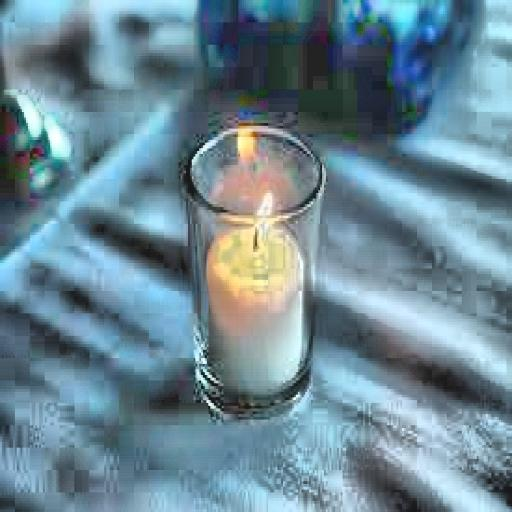fire: (246, 188, 279, 240)
